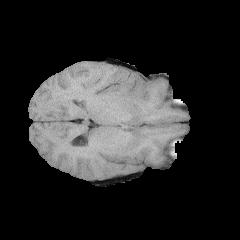glioma: (107, 76, 150, 103)
